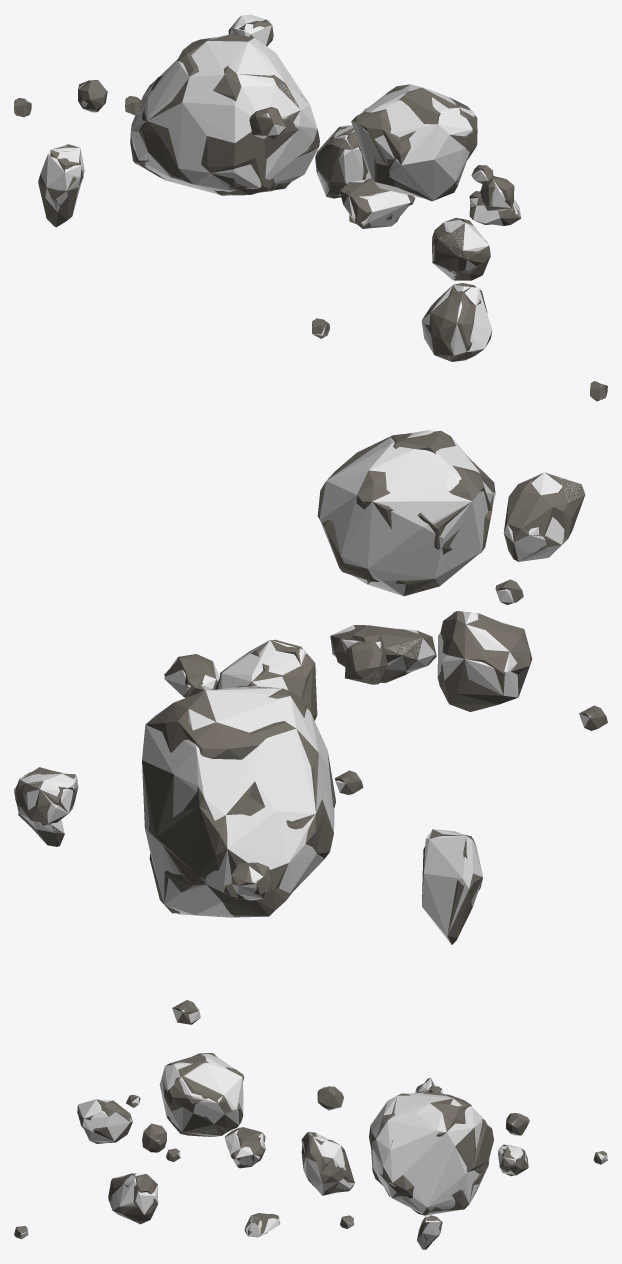
Rendered from SM_Env_Asteroid_Field_LowDetail_01.fbx.
The picture shows the model from 3 angles, top to bottom: view 1: azimuth 30°, elevation 25°; view 2: azimuth 150°, elevation 25°; view 3: azimuth 270°, elevation 25°; orthographic projection. The views are drawn at different scales.
Parts seen in each view (by area): view 1: SM_Env_Asteroid_Field_LowDetail_01_ConvexHulls, SM_Env_Asteroid_Field_LowDetail_01_LOD0; view 2: SM_Env_Asteroid_Field_LowDetail_01_ConvexHulls, SM_Env_Asteroid_Field_LowDetail_01_LOD0; view 3: SM_Env_Asteroid_Field_LowDetail_01_ConvexHulls, SM_Env_Asteroid_Field_LowDetail_01_LOD0.
Boxes of the visible parts, left/top/right/bottom form: SM_Env_Asteroid_Field_LowDetail_01_ConvexHulls: left=14, top=14, right=605, bottom=400; SM_Env_Asteroid_Field_LowDetail_01_LOD0: left=14, top=19, right=607, bottom=401; SM_Env_Asteroid_Field_LowDetail_01_ConvexHulls: left=14, top=430, right=590, bottom=1023; SM_Env_Asteroid_Field_LowDetail_01_LOD0: left=14, top=431, right=607, bottom=1024; SM_Env_Asteroid_Field_LowDetail_01_ConvexHulls: left=14, top=1053, right=607, bottom=1249; SM_Env_Asteroid_Field_LowDetail_01_LOD0: left=14, top=1053, right=606, bottom=1249.
Bounding box in the file's own units: 11293 × 5540 × 3479.
Materials: 1 (1 with a texture image).
